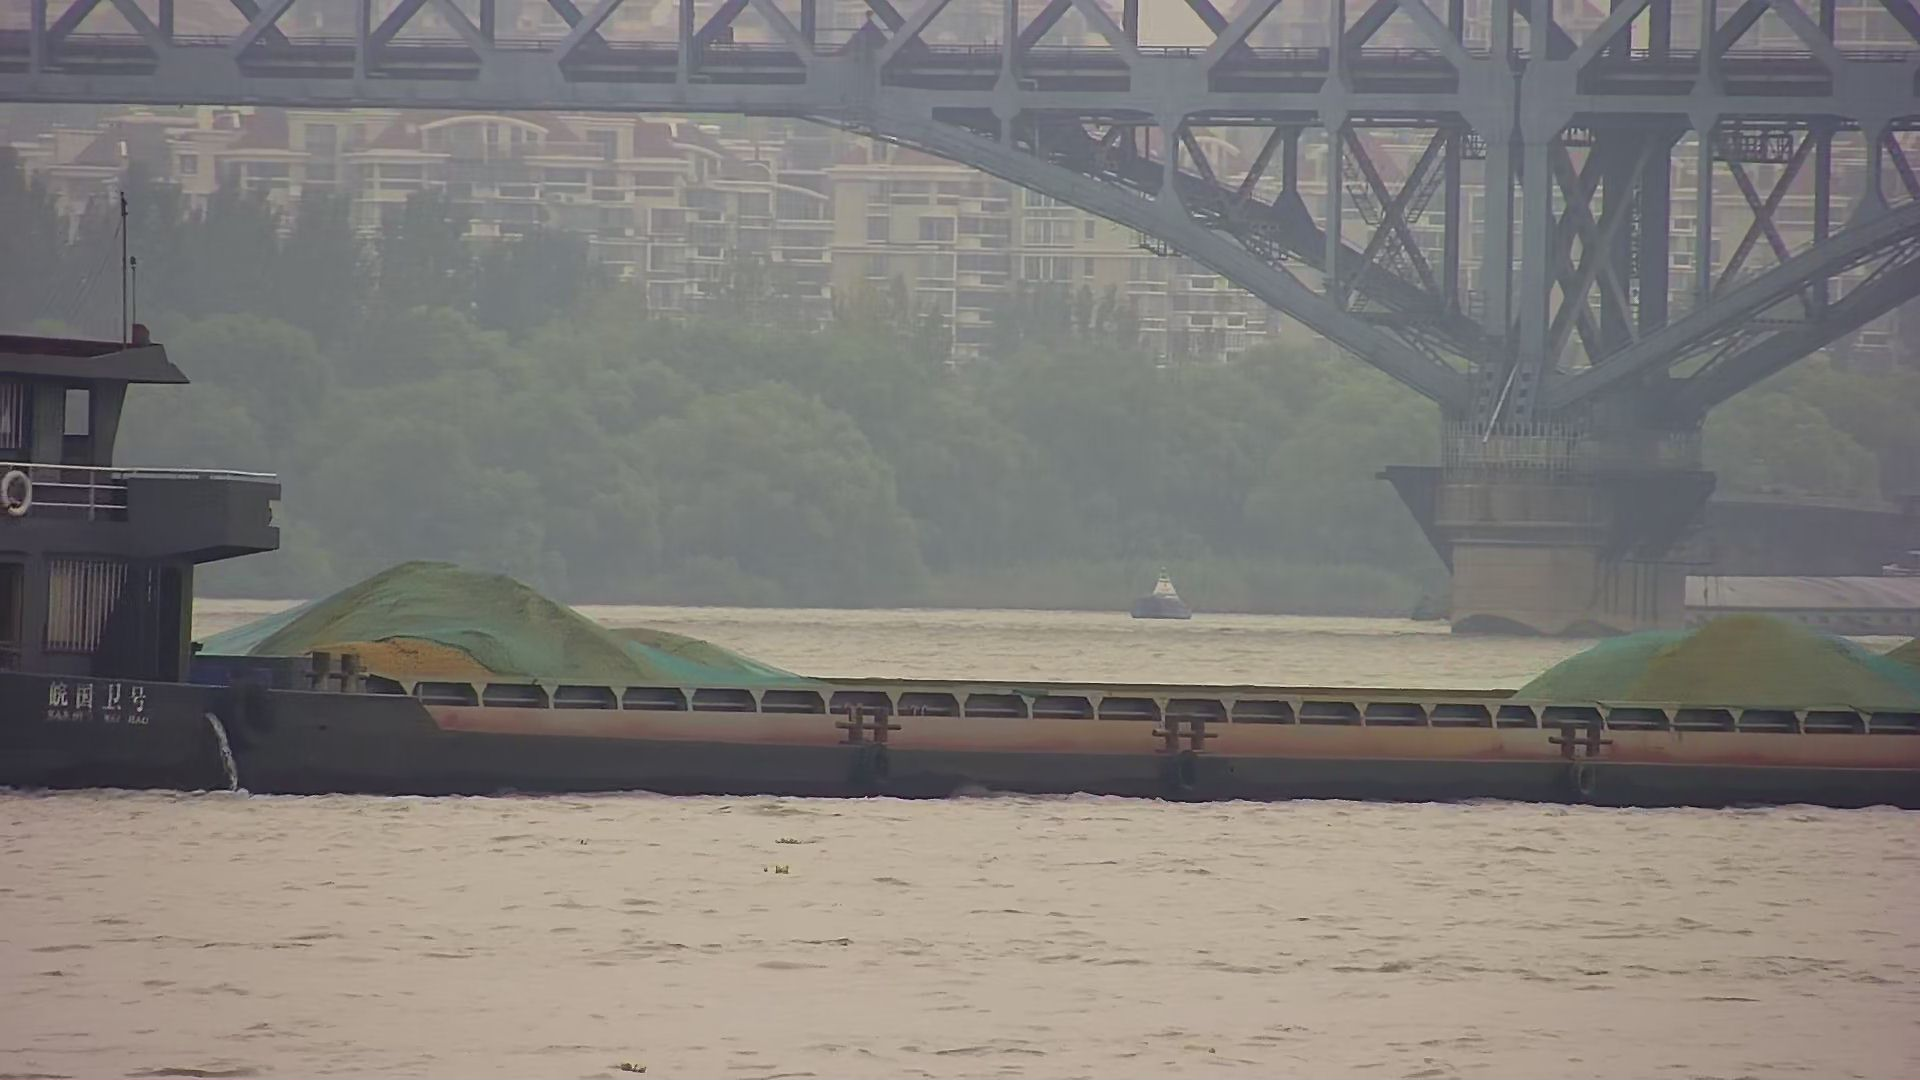boat: (1120, 558, 1212, 626)
bridge: (1, 1, 1913, 642)
ship: (7, 181, 1920, 803)
